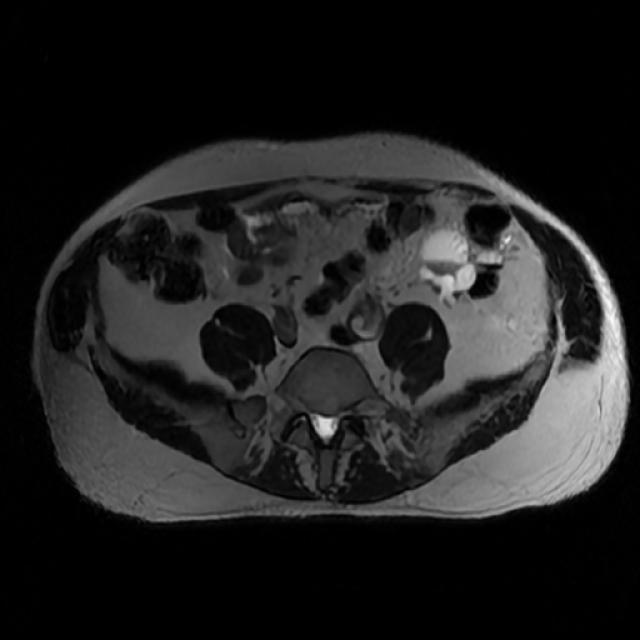sol: (417, 228, 508, 307)
